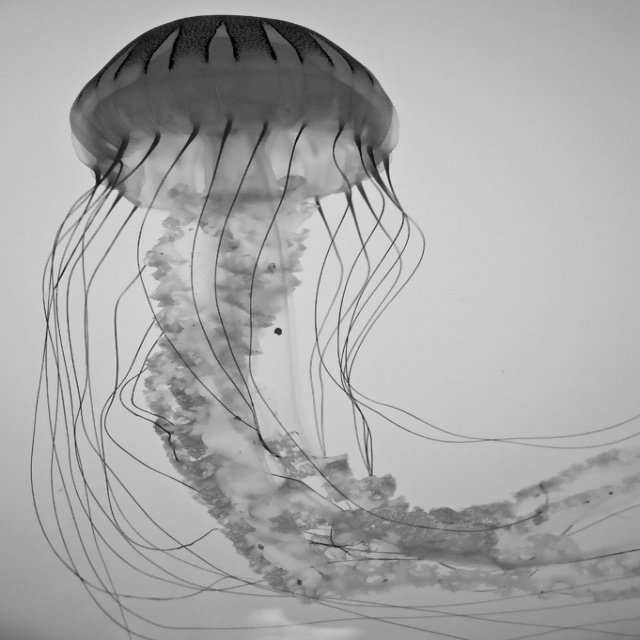Jellyfish: (17, 14, 528, 640)
